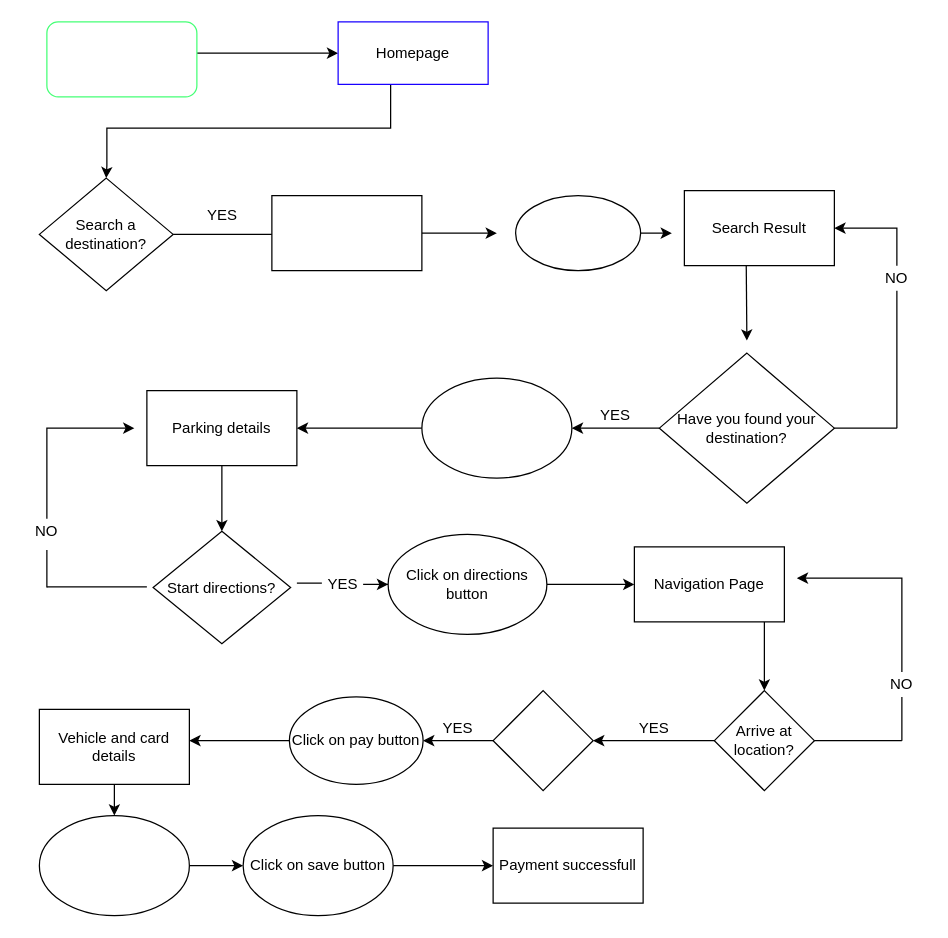
Some shapes in this 948 by 938 pixel diagram are drawn without their labels. The box of each missing label's shape, as (x1, y1, x2, y2) in pixels:
Click on location map: (421, 377, 572, 478)
Enter details: (38, 814, 189, 916)
Enter Location: (514, 194, 641, 271)
Pay?: (492, 689, 593, 791)
Search Page: (271, 194, 422, 271)
Splash page: (46, 21, 197, 97)
